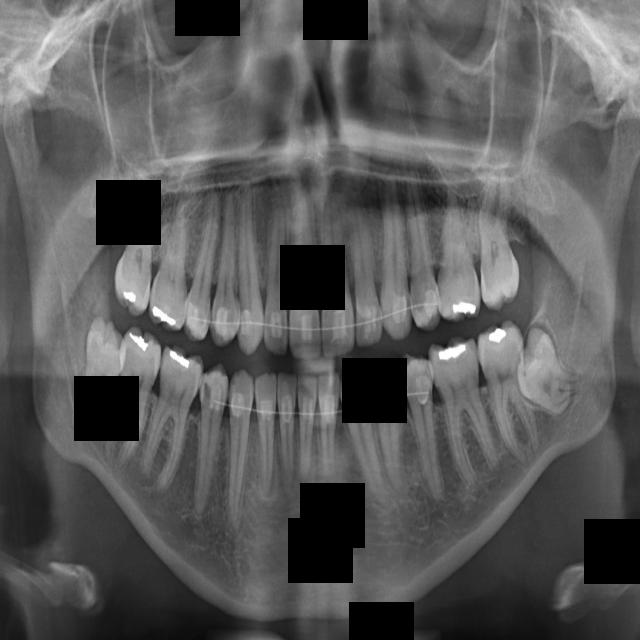AGS Medikal Implant: (348, 207, 379, 339)
Amalgam filling: (373, 194, 413, 353)
Anthogyr Implant: (396, 208, 441, 334)
Bicon Implant: (426, 207, 480, 314)
BioHorizons Implant: (478, 210, 518, 306)
Biomet 3i Implant: (503, 327, 585, 425)
Blue Sky Bio Implant: (481, 327, 547, 468)
Camlog Implant: (433, 342, 503, 492)
Caries: (114, 182, 160, 312)
Composite filling: (405, 357, 442, 506)
Cowellmedi Implant: (368, 362, 406, 486)
Crown: (335, 370, 386, 493)
DENTSPLY Implant: (319, 375, 336, 469)
Dentatus Implant: (289, 377, 322, 477)
Dentis Implant: (281, 377, 299, 480)
Dentium Implant: (259, 375, 275, 483)
Euroteknika Implant: (225, 366, 253, 506)
Filling: (193, 371, 224, 514)
Hiossen Implant: (146, 204, 187, 321)
Implant: (102, 334, 162, 474)
Implant Direct: (130, 340, 206, 494)
Keystone Dental Implant: (69, 317, 130, 438)
MIS Implant: (184, 199, 221, 341)
Mandible: (226, 314, 227, 315)
Maxilla: (235, 197, 262, 349)
Megagen Implant: (261, 198, 286, 342)
Neodent Implant: (288, 200, 327, 353)
Neoss Implant: (322, 215, 355, 349)
